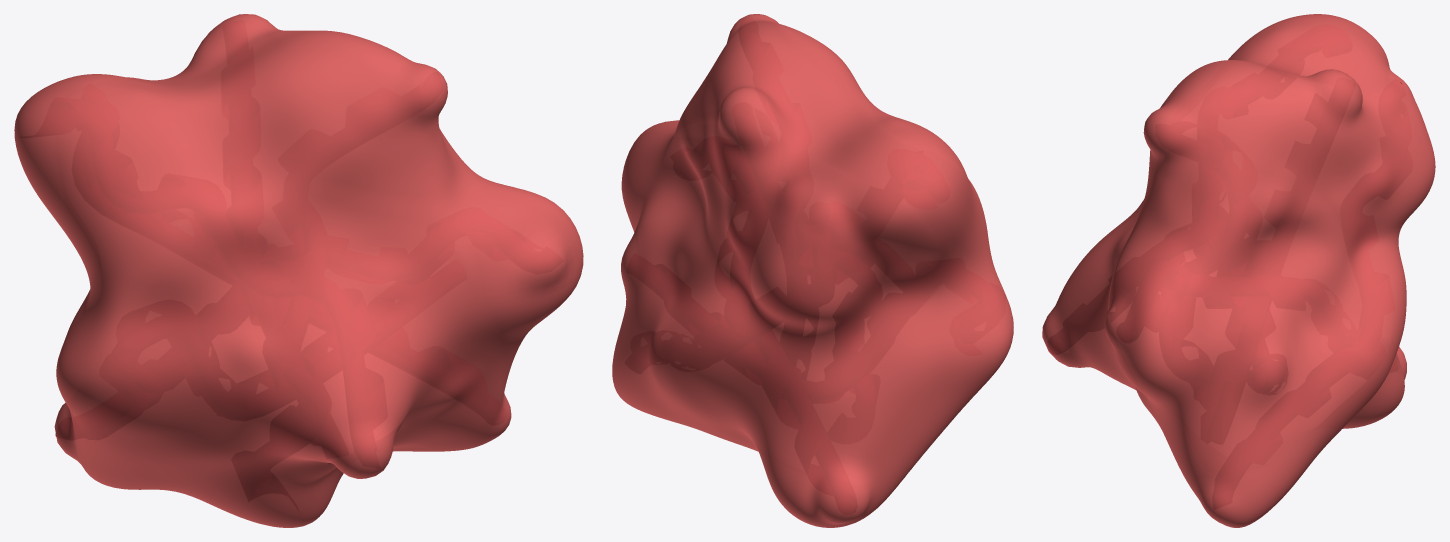
File: LigaseIVmodel_v4.fbx
The picture shows the model from 3 angles, left to right: view 1: azimuth 30°, elevation 25°; view 2: azimuth 150°, elevation 25°; view 3: azimuth 270°, elevation 25°; orthographic projection. The views are drawn at different scales.
Visible parts, largest first — view 1: Surface; view 2: Surface; view 3: Surface.
Part boxes in pixels (x1=…): Surface: x1=14, y1=14, x2=583, y2=527; Surface: x1=612, y1=14, x2=1013, y2=527; Surface: x1=1042, y1=14, x2=1435, y2=527.
Size of the model in its own units: 466 by 451 by 383.
